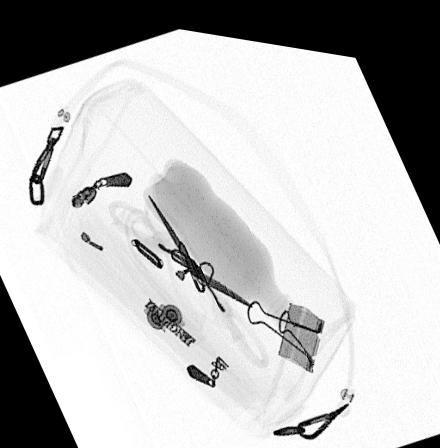Scissors: (106, 189, 268, 361)
